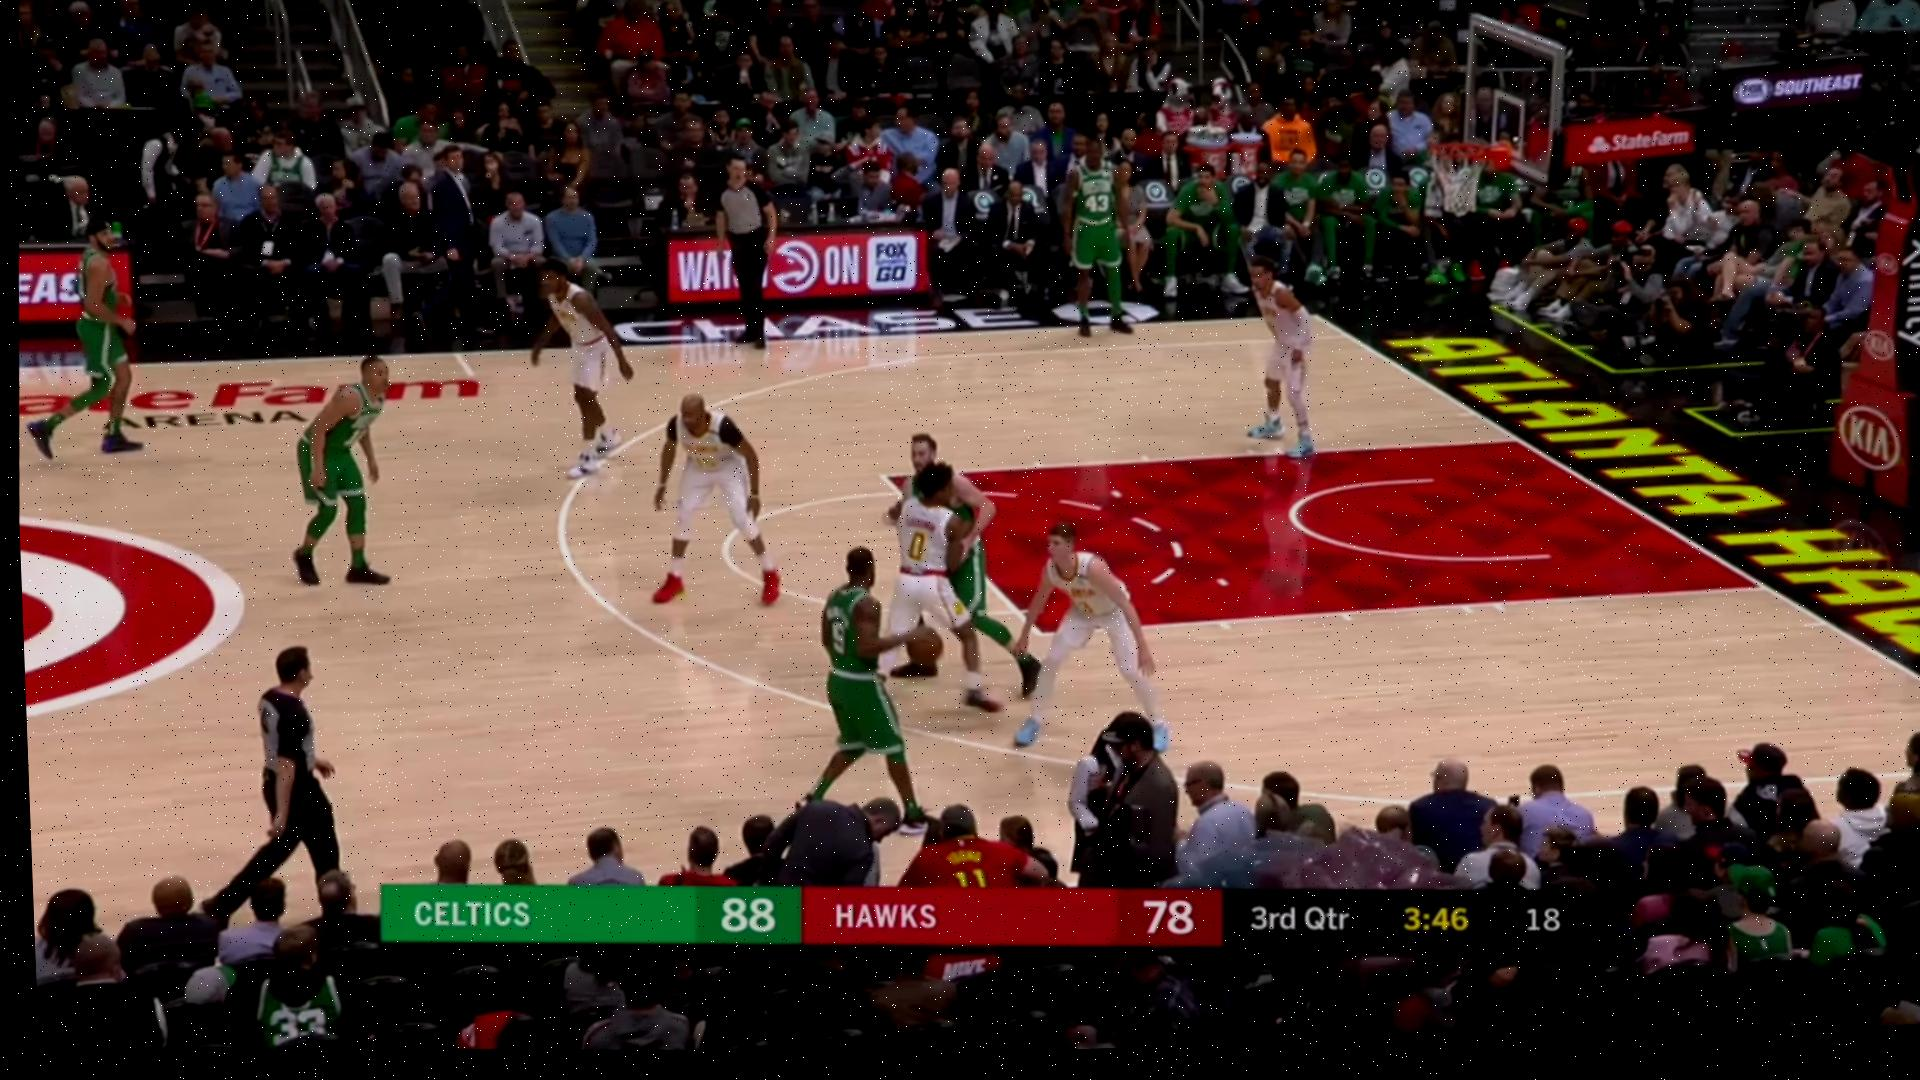no_foul: (869, 405, 1020, 677)
